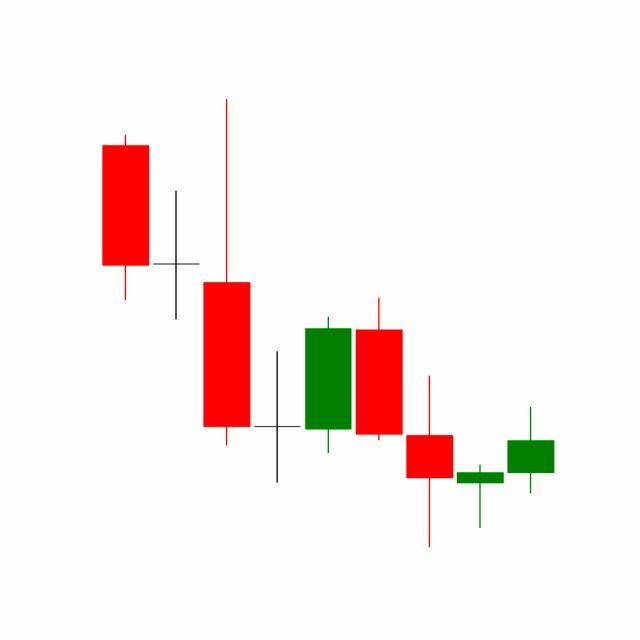Hikkake Pattern: (302, 294, 555, 548)
